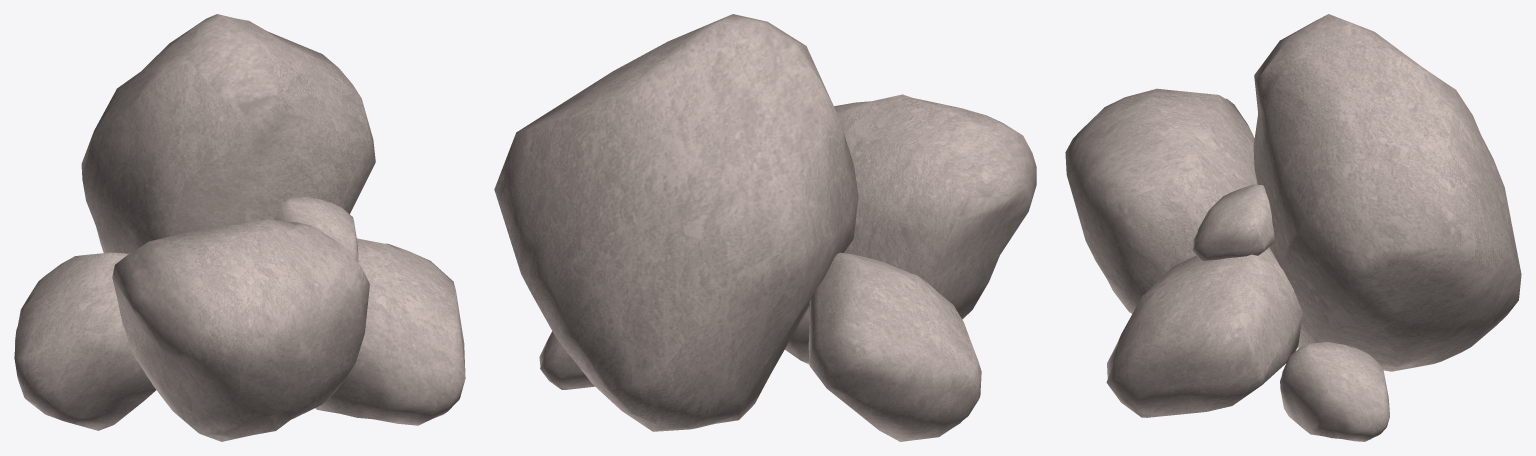
Rendered from rock.fbx.
3 views of the same model, side by side, from view 1: azimuth 30°, elevation 25°; view 2: azimuth 150°, elevation 25°; view 3: azimuth 270°, elevation 25° (orthographic). The views are drawn at different scales.
Parts seen in each view (by area): view 1: Plane.004; view 2: Plane.004; view 3: Plane.004.
Boxes of the visible parts, x1=… form: Plane.004: x1=14, y1=14, x2=465, y2=441; Plane.004: x1=494, y1=14, x2=1036, y2=441; Plane.004: x1=1065, y1=14, x2=1521, y2=441.
Size of the model in its own units: 1636 by 1472 by 1726.
